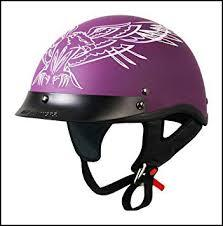helmet: (16, 15, 207, 210)
